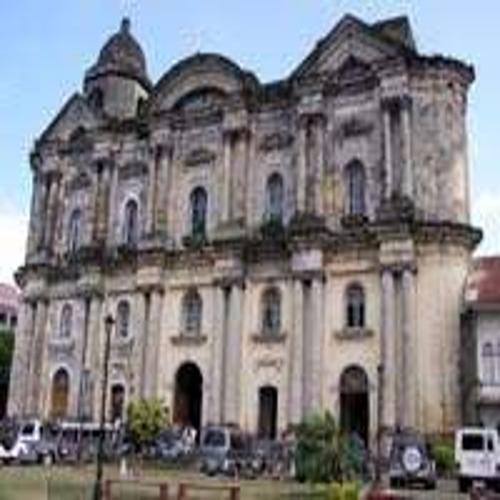Taal Basilica Church: (8, 10, 475, 439)
